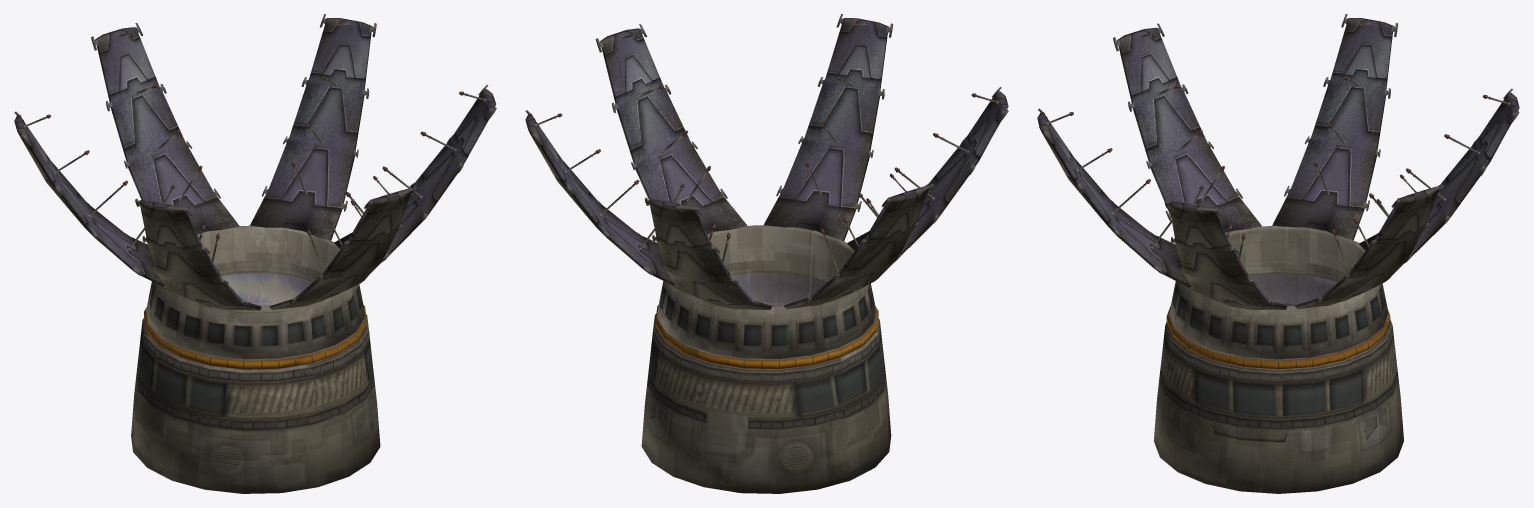
Rendered from nf_energy_generator.glb.
3 views of the same model, side by side, from view 1: azimuth 30°, elevation 25°; view 2: azimuth 150°, elevation 25°; view 3: azimuth 270°, elevation 25° (orthographic).
Parts seen in each view (by area): view 1: objTop_Energy001; view 2: objTop_Energy001; view 3: objTop_Energy001.
Part boxes in pixels (box(x1,y1,x2,y2)): objTop_Energy001: box(14, 14, 496, 493); objTop_Energy001: box(525, 14, 1008, 493); objTop_Energy001: box(1037, 14, 1519, 493).
Size of the model in its own units: 1010 by 808 by 1050.
1 material, 1 textured.
